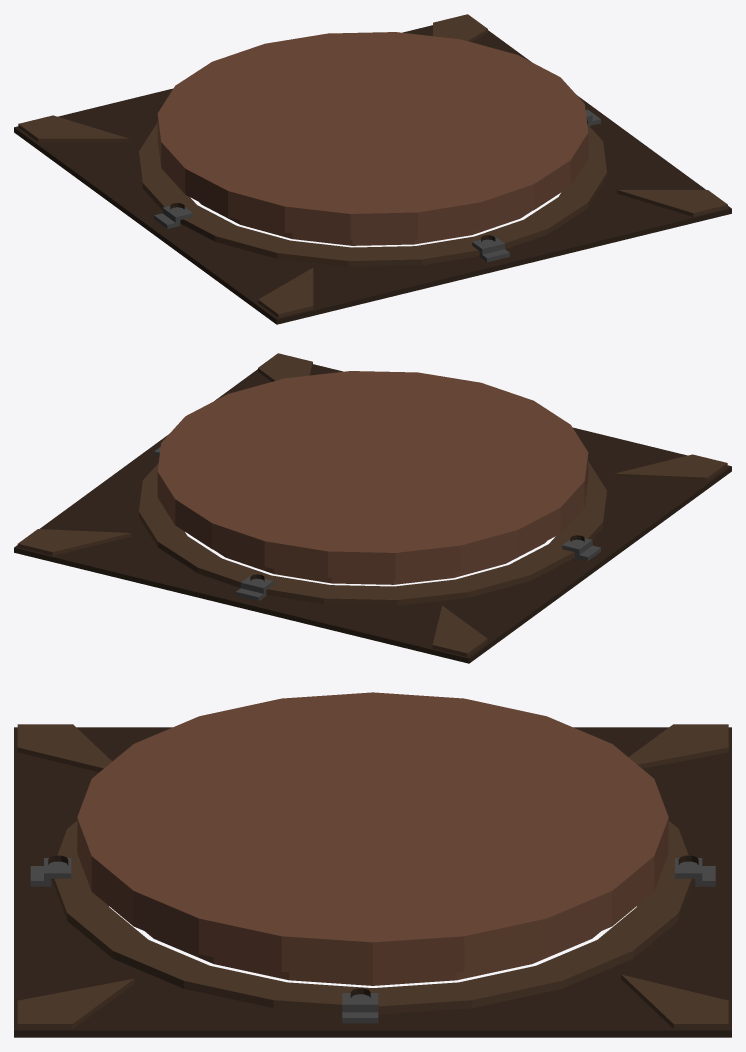
Rendered from plaque de pression usine .fbx.
3 views of the same model, one above another, from view 1: azimuth 30°, elevation 25°; view 2: azimuth 150°, elevation 25°; view 3: azimuth 270°, elevation 25° (orthographic). The views are drawn at different scales.
Parts seen in each view (by area): view 1: plaque pressoir, planche en bois du pressoir, anneau du pressoir, fleche 1, fleche 3, fleche 4, fleche 2, attache 2, attache 1; view 2: plaque pressoir, planche en bois du pressoir, anneau du pressoir, fleche 2, fleche 4, fleche 1, fleche 3, attache 4, attache 1; view 3: plaque pressoir, planche en bois du pressoir, anneau du pressoir, fleche 3, fleche 2, fleche 4, fleche 1, attache 3, attache 2, attache 4.
Part boxes in pixels (x1,y1,x2,y2): plaque pressoir: [157, 32, 588, 245]; planche en bois du pressoir: [14, 25, 731, 324]; anneau du pressoir: [139, 122, 606, 266]; fleche 1: [18, 115, 128, 142]; fleche 3: [617, 190, 727, 216]; fleche 4: [258, 268, 313, 317]; fleche 2: [433, 14, 487, 42]; attache 2: [472, 236, 509, 262]; attache 1: [154, 206, 192, 228]; plaque pressoir: [157, 371, 588, 584]; planche en bois du pressoir: [14, 364, 731, 663]; anneau du pressoir: [139, 461, 606, 605]; fleche 2: [17, 529, 131, 555]; fleche 4: [614, 454, 727, 481]; fleche 1: [432, 605, 487, 656]; fleche 3: [258, 353, 312, 381]; attache 4: [236, 575, 273, 601]; attache 1: [562, 538, 600, 561]; plaque pressoir: [77, 692, 668, 985]; planche en bois du pressoir: [14, 727, 731, 1037]; anneau du pressoir: [51, 821, 694, 1014]; fleche 3: [17, 978, 134, 1028]; fleche 2: [621, 974, 728, 1028]; fleche 4: [17, 724, 111, 772]; fleche 1: [628, 724, 728, 768]; attache 3: [342, 993, 378, 1023]; attache 2: [30, 858, 71, 886]; attache 4: [675, 858, 715, 886].
Bounding box in the file's own units: 251 × 26.37 × 251.
